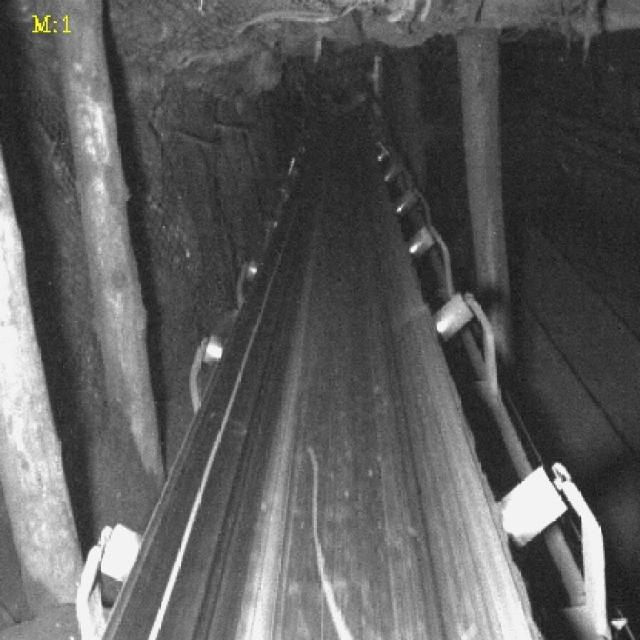bolt: (309, 444, 352, 640)
